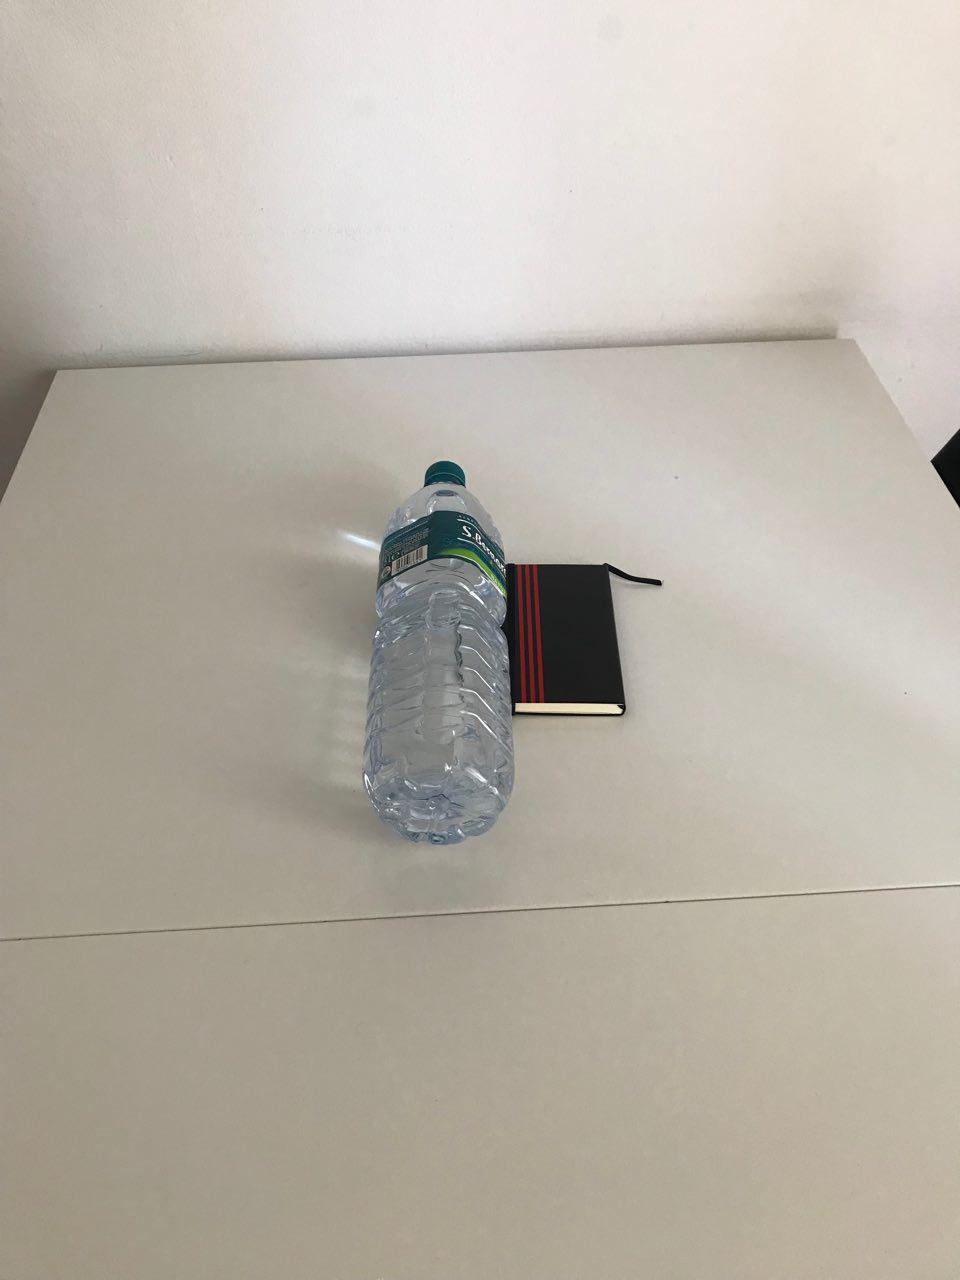san_bernardo: (360, 459, 517, 849)
